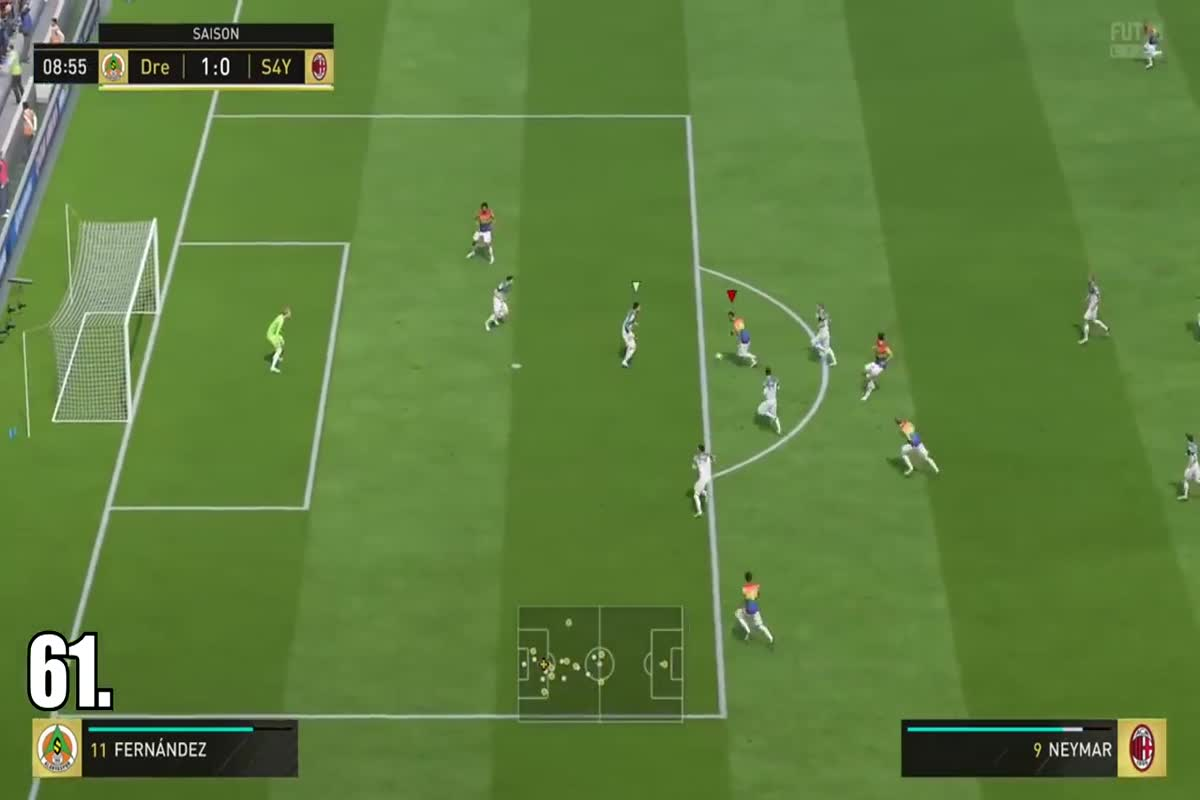ball: (711, 345, 729, 367)
